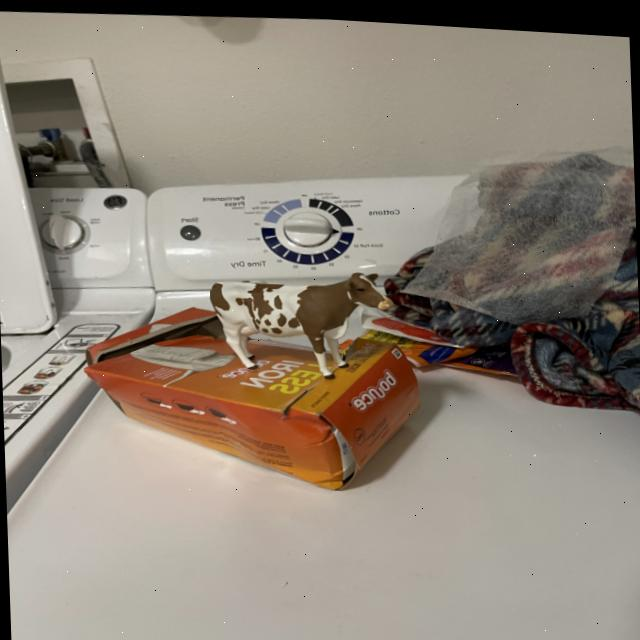cow: (209, 266, 397, 382)
